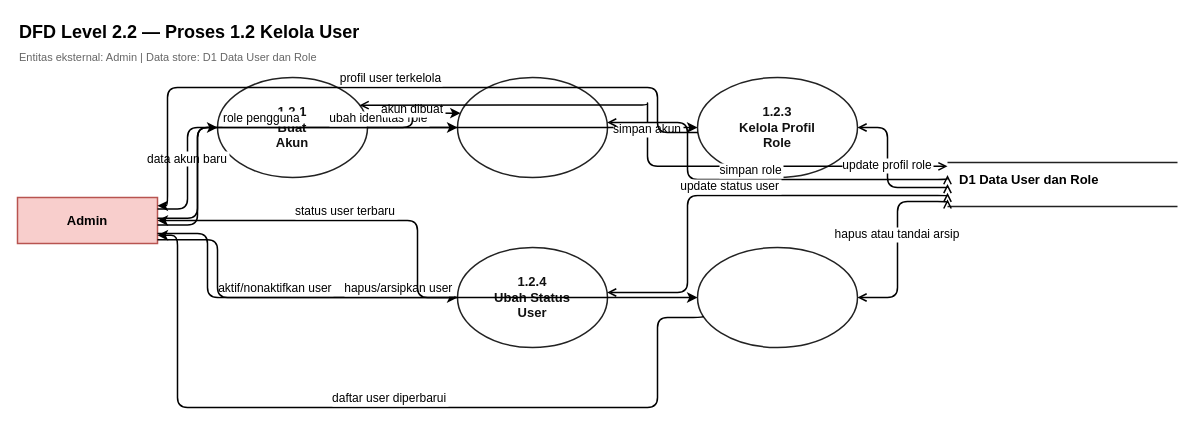
This 1196x433 diagram has some shape labels left out. The centre of each missing label's shape, as x and y in pixels:
1.2.2 Tetapkan Role: the point at 532,127
1.2.5 Hapus atau Arsipkan User: the point at 777,297
